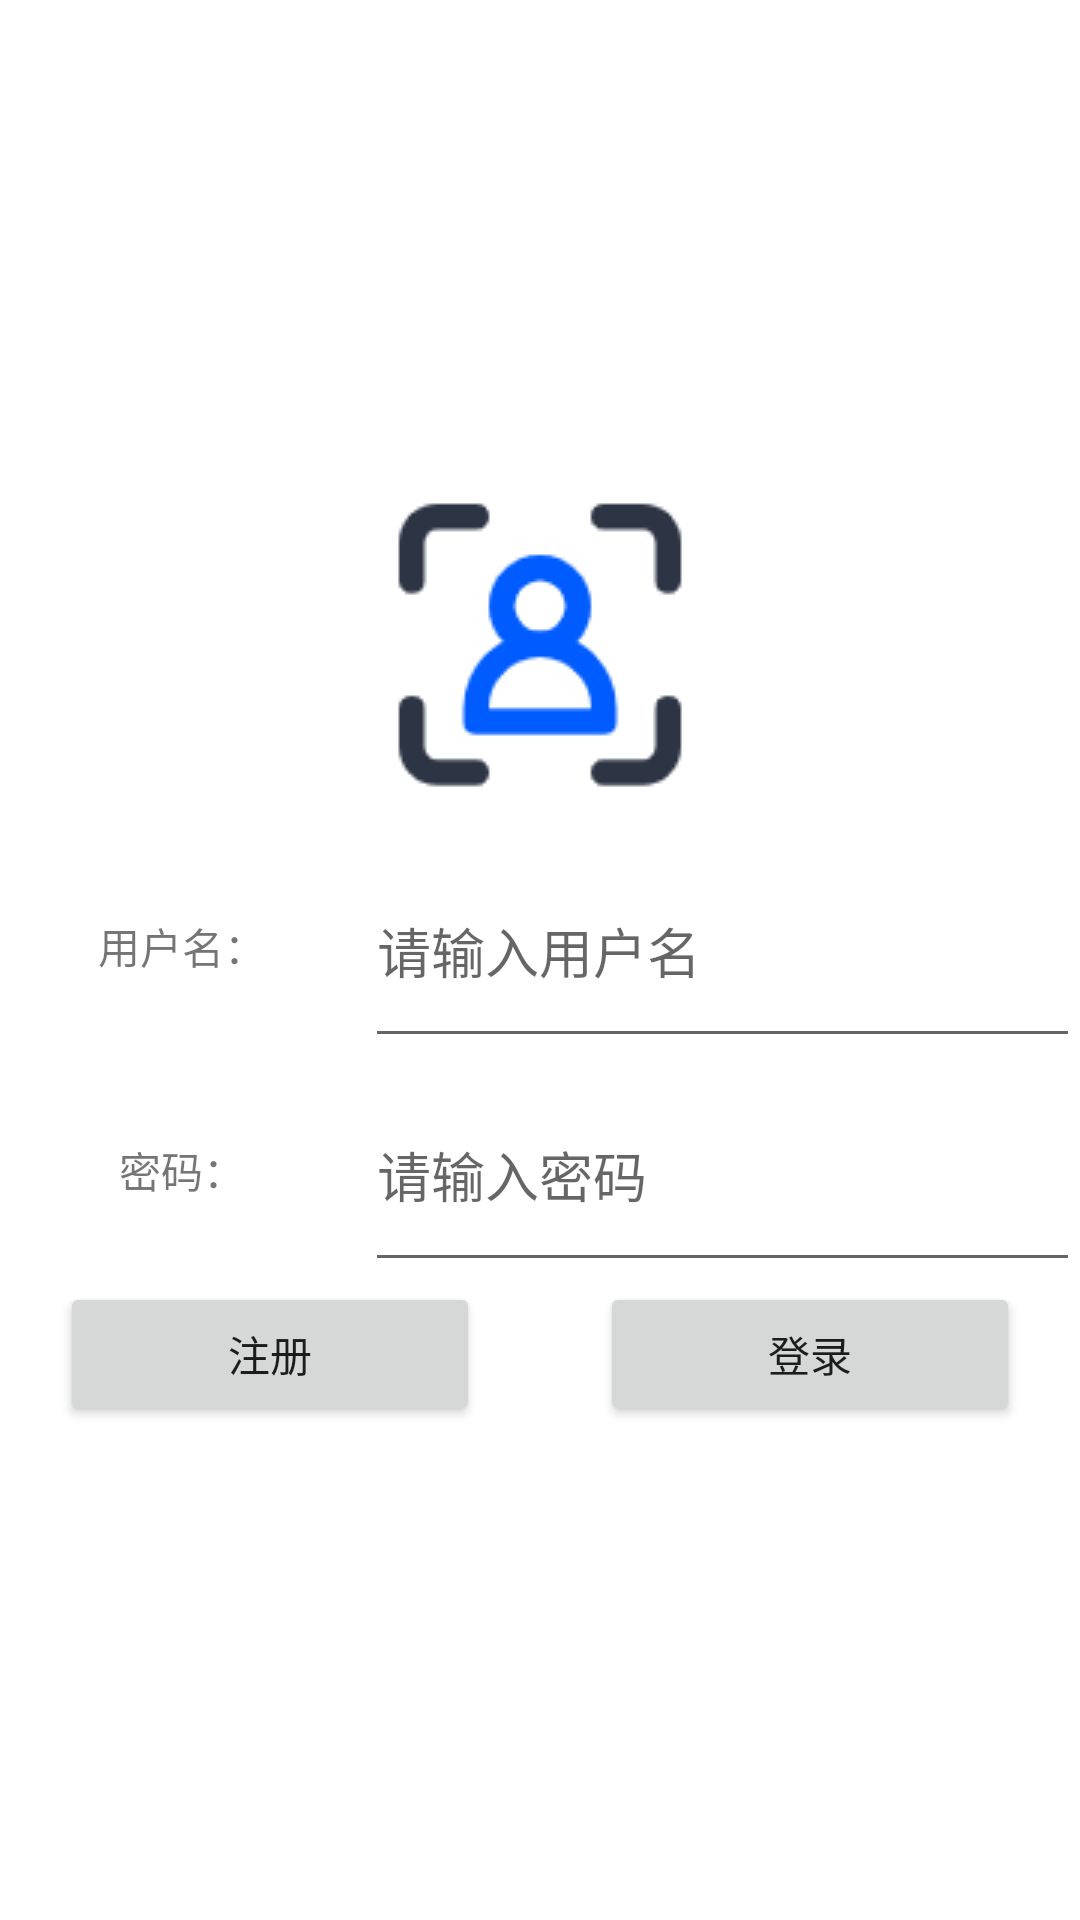

Icons on this 1080px x 1920px Android screen, each with its box as (x1, y1, x2, y2):
person: (398, 503, 682, 787)
